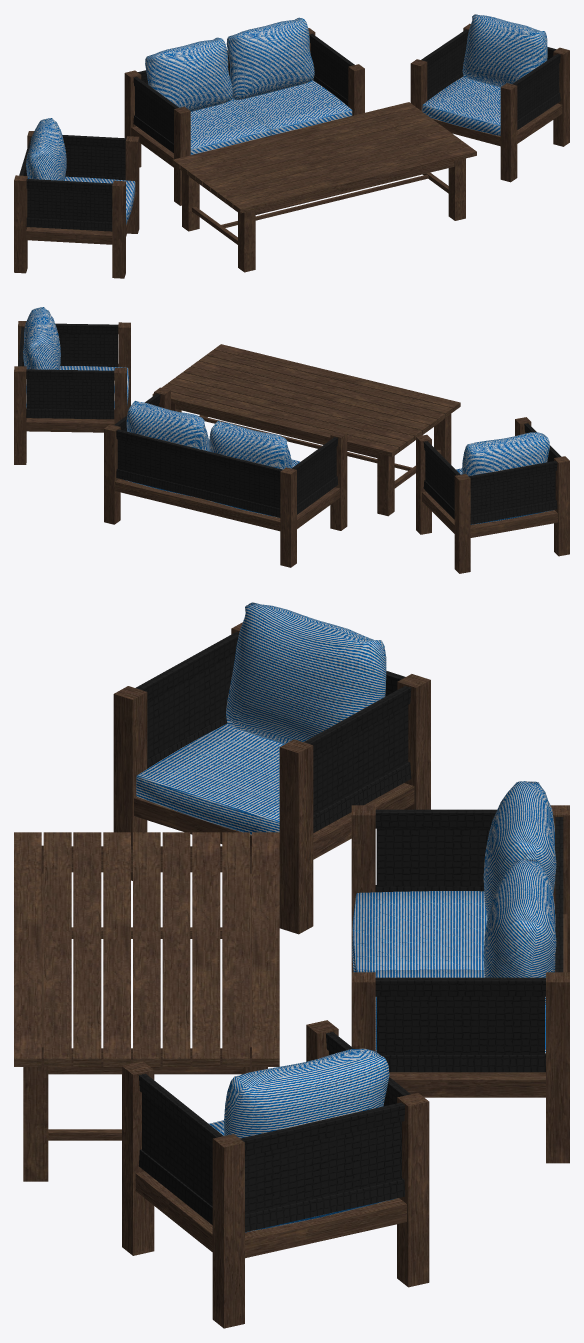
3 views of the same model, one above another, from view 1: azimuth 30°, elevation 25°; view 2: azimuth 150°, elevation 25°; view 3: azimuth 270°, elevation 25° (orthographic). The views are drawn at different scales.
Visible parts, largest first — view 1: LoungeSofa, LoungeTable, LoungeChair, LoungeChair.001; view 2: LoungeSofa, LoungeTable, LoungeChair.001, LoungeChair; view 3: LoungeTable, LoungeSofa, LoungeChair.001, LoungeChair.
Boxes of the visible parts, box(x1,y1,x2,y2) form: LoungeSofa: box(124, 17, 364, 205); LoungeTable: box(172, 102, 476, 272); LoungeChair: box(410, 14, 569, 182); LoungeChair.001: box(14, 118, 139, 278); LoungeSofa: box(104, 387, 347, 567); LoungeTable: box(152, 344, 460, 516); LoungeChair.001: box(416, 417, 569, 573); LoungeChair: box(14, 307, 130, 464); LoungeTable: box(14, 832, 279, 1181); LoungeSofa: box(351, 781, 569, 1163); LoungeChair.001: box(113, 602, 430, 934); LoungeChair: box(122, 1020, 429, 1328).
Bounding box in the file's own units: 4.39 × 0.884 × 1.96.
3 materials, 3 textured.
